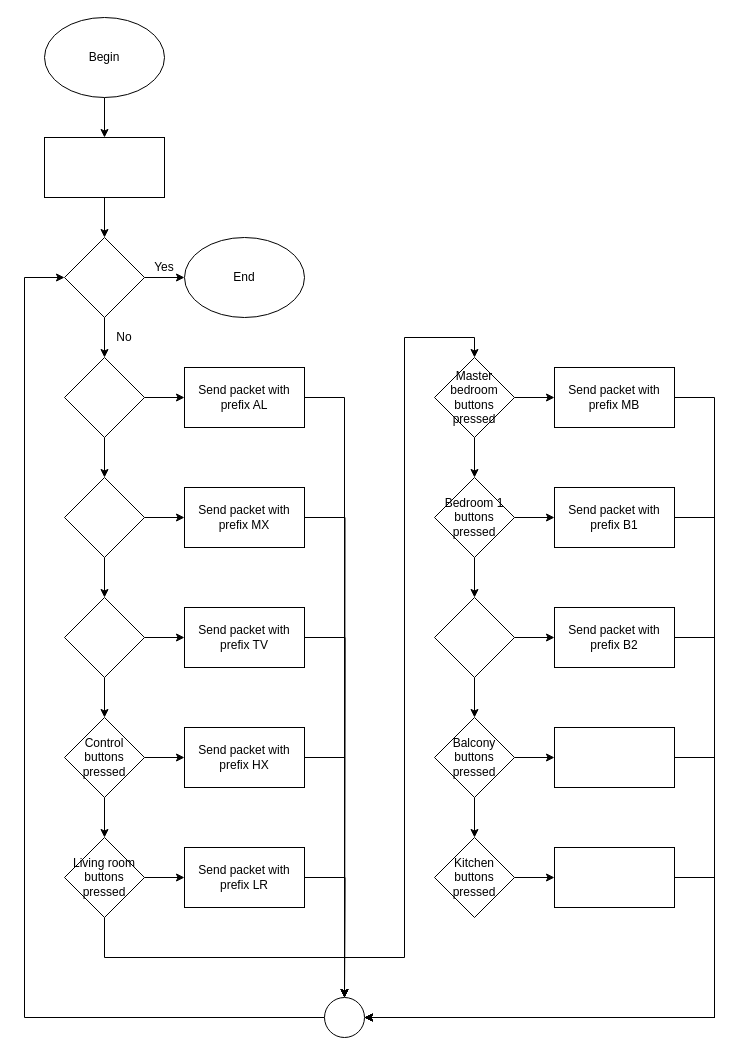
Image size: 740x1055. Some labels were removed from this diagram. Here are the shapes that lost their labels. From the top down, the centre of each, then its label:
At (x=104, y=167): "Open connection at localhost port 50000".
At (x=104, y=277): "Stop button pressed".
At (x=104, y=397): "Alarm buttons pressed".
At (x=104, y=517): "Master buttons pressed".
At (x=104, y=637): "TV buttons pressed".
At (x=474, y=637): "Bedroom 2 buttons pressed".
At (x=614, y=757): "Send packet with prefix BA".
At (x=614, y=877): "Send packet with prefix KI".
